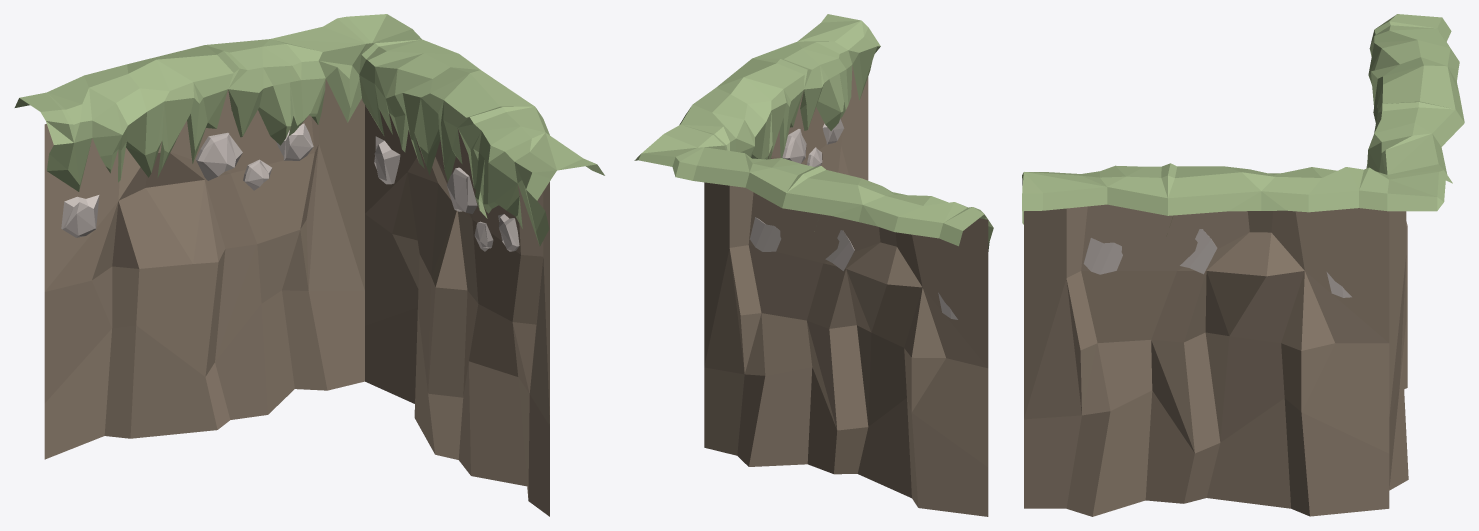
The model's file is ER_Terrain_1x1_GrassCorner_Inverted_001_B1.fbx.
3 renders of one model, left to right at view 1: azimuth 30°, elevation 25°; view 2: azimuth 150°, elevation 25°; view 3: azimuth 270°, elevation 25°, orthographic. The views are drawn at different scales.
Parts seen in each view (by area): view 1: ER_Terrain_1x1_GrassCorner_Inverted_001_B1; view 2: ER_Terrain_1x1_GrassCorner_Inverted_001_B1; view 3: ER_Terrain_1x1_GrassCorner_Inverted_001_B1.
Part boxes in pixels (bbox=[...]): ER_Terrain_1x1_GrassCorner_Inverted_001_B1: bbox=[14, 14, 604, 516]; ER_Terrain_1x1_GrassCorner_Inverted_001_B1: bbox=[634, 14, 993, 516]; ER_Terrain_1x1_GrassCorner_Inverted_001_B1: bbox=[1022, 14, 1464, 516].
Bounding box in the file's own units: 1.21 × 1.06 × 1.21.
